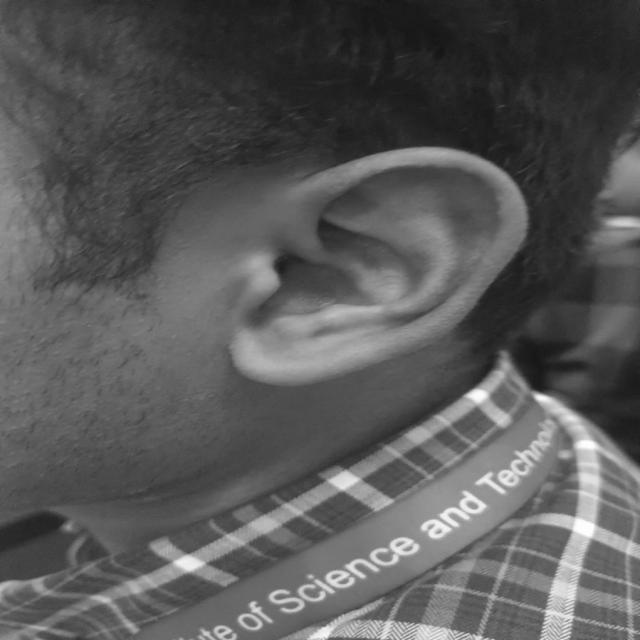ear: (231, 148, 527, 384), (254, 267, 263, 279), (260, 263, 263, 269), (248, 274, 251, 279)
